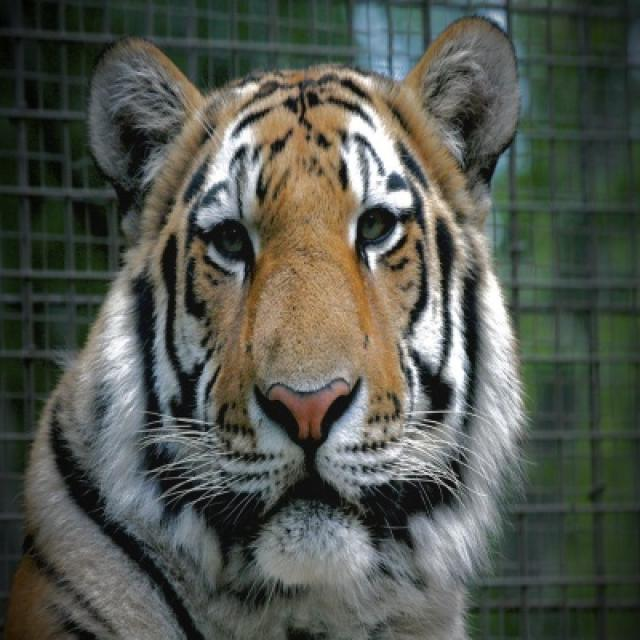Tiger: (6, 18, 525, 638)
